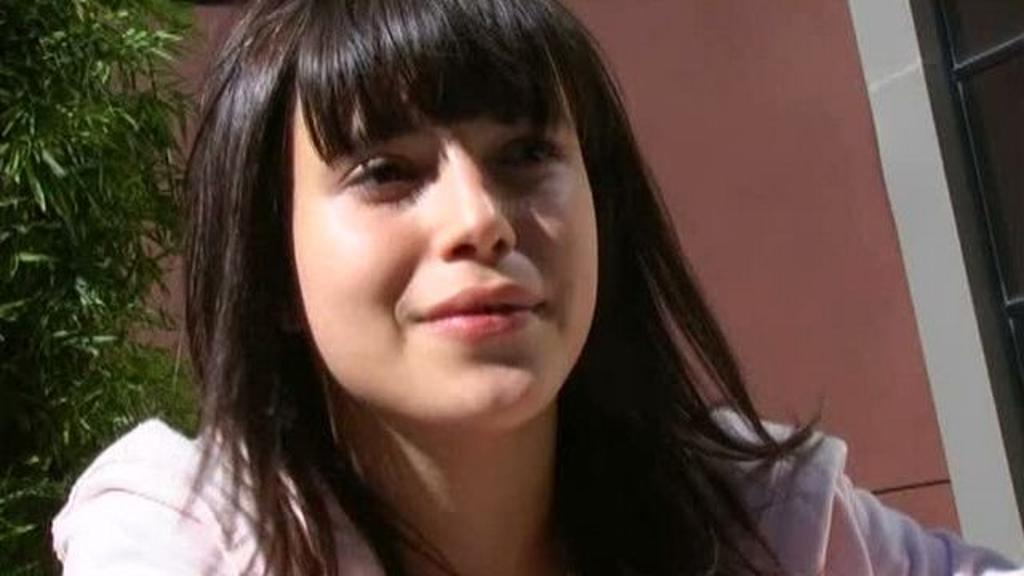face: (292, 32, 598, 428)
